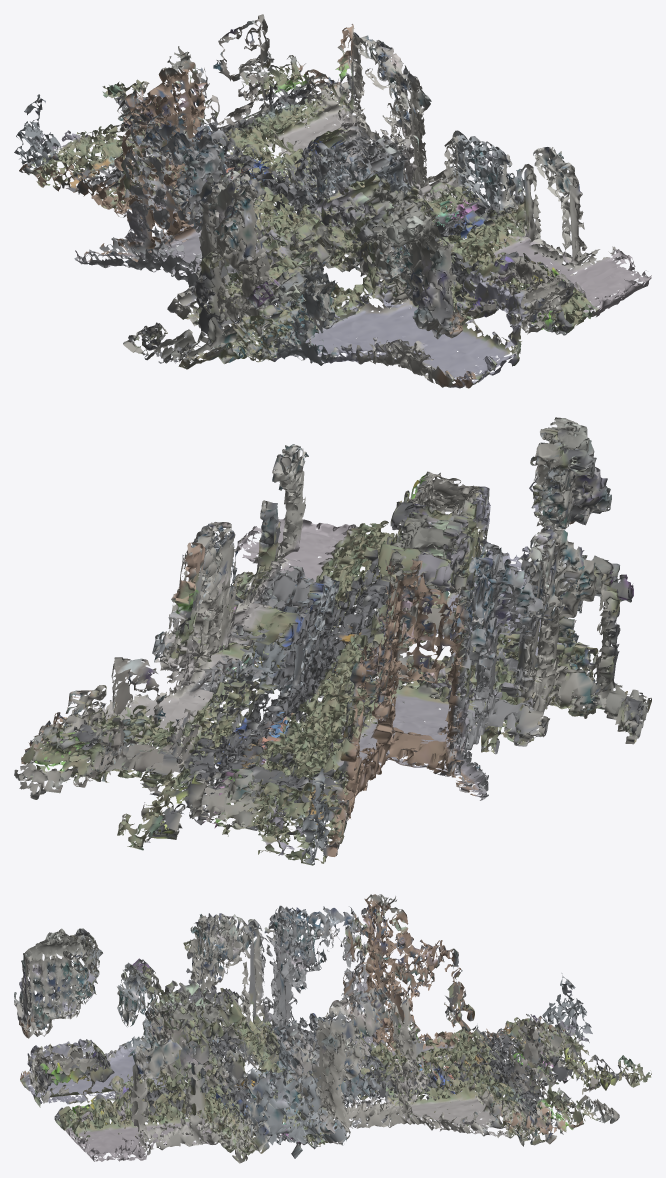
Rendered from city_textured.glb.
3 views of the same model, one above another, from view 1: azimuth 30°, elevation 25°; view 2: azimuth 150°, elevation 25°; view 3: azimuth 270°, elevation 25° (orthographic). The views are drawn at different scales.
Parts seen in each view (by area): view 1: city_textured; view 2: city_textured; view 3: city_textured.
Boxes of the visible parts, box(x1,y1,x2,y2) form: city_textured: box(14, 14, 651, 388); city_textured: box(14, 417, 651, 865); city_textured: box(14, 894, 651, 1163).
Size of the model in its own units: 13.46 by 6.65 by 20.49.
